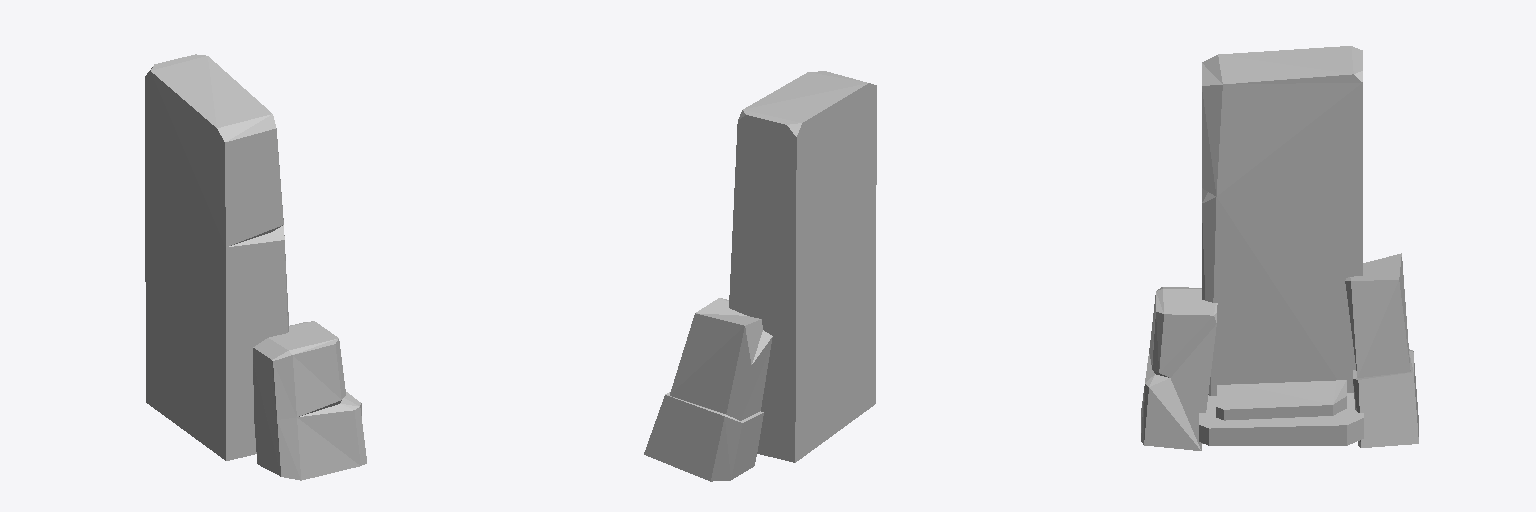
Rendered from landmark--throne__01 1.obj.
3 views of the same model, side by side, from view 1: azimuth 30°, elevation 25°; view 2: azimuth 150°, elevation 25°; view 3: azimuth 270°, elevation 25° (orthographic).
Visible parts, largest first — view 1: throne01_Cube.005; view 2: throne01_Cube.005; view 3: throne01_Cube.005.
Part boxes in pixels (bbox=[...]): throne01_Cube.005: bbox=[145, 54, 366, 480]; throne01_Cube.005: bbox=[644, 71, 876, 481]; throne01_Cube.005: bbox=[1141, 46, 1418, 450].
Size of the model in its own units: 2.01 by 4.83 by 3.46.